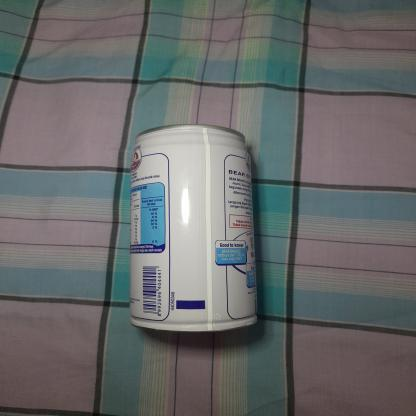mouse: (124, 118, 268, 342)
